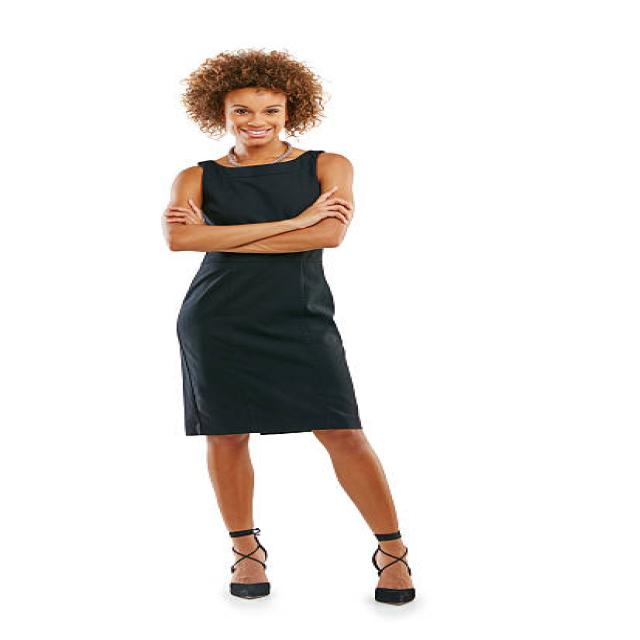Edited images: (138, 36, 451, 612)
